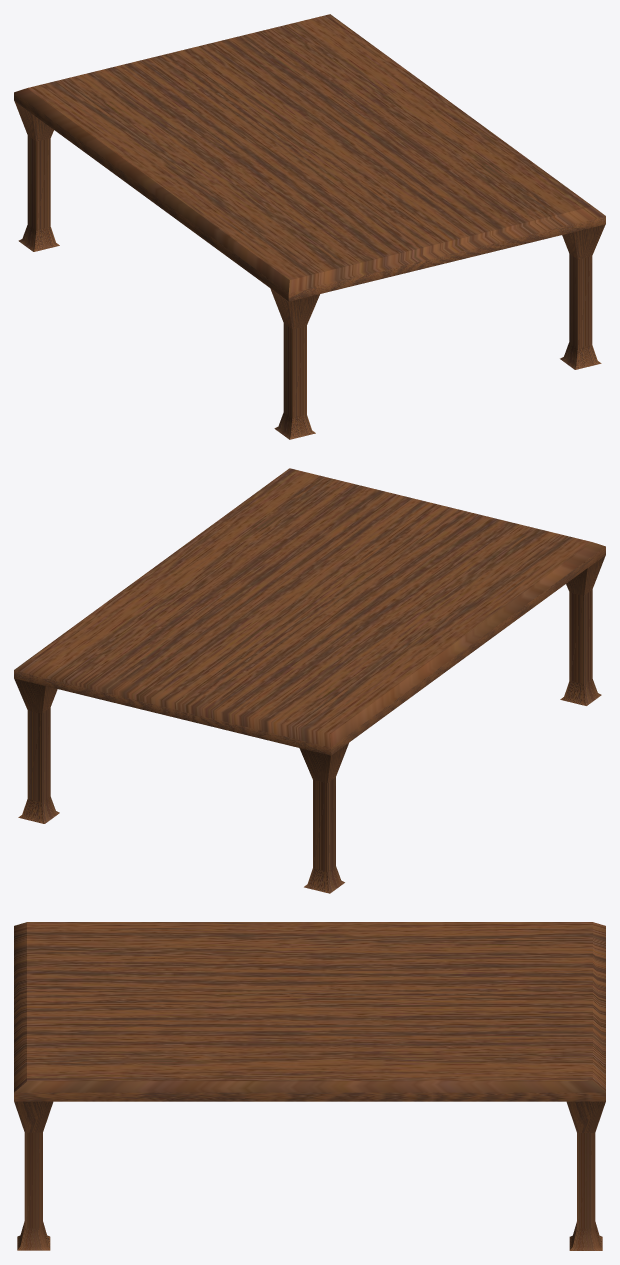
The model's file is table.fbx.
The picture shows the model from 3 angles, top to bottom: view 1: azimuth 30°, elevation 25°; view 2: azimuth 150°, elevation 25°; view 3: azimuth 270°, elevation 25°; orthographic projection. The views are drawn at different scales.
Visible parts, largest first — view 1: pCube6; view 2: pCube6; view 3: pCube6.
Boxes of the visible parts, left/top/right/bottom form: pCube6: left=14, top=14, right=605, bottom=439; pCube6: left=14, top=468, right=605, bottom=893; pCube6: left=14, top=922, right=605, bottom=1250.
Bounding box in the file's own units: 10 × 4.67 × 15.
1 material, 1 textured.
